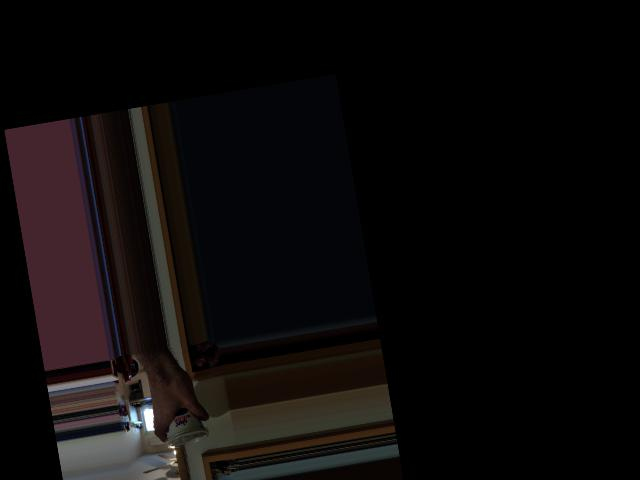cotage: (155, 394, 208, 451)
